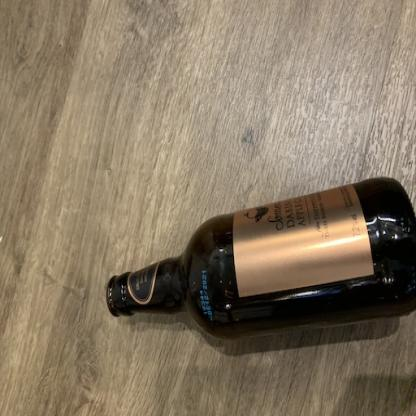trash: (106, 172, 415, 344)
